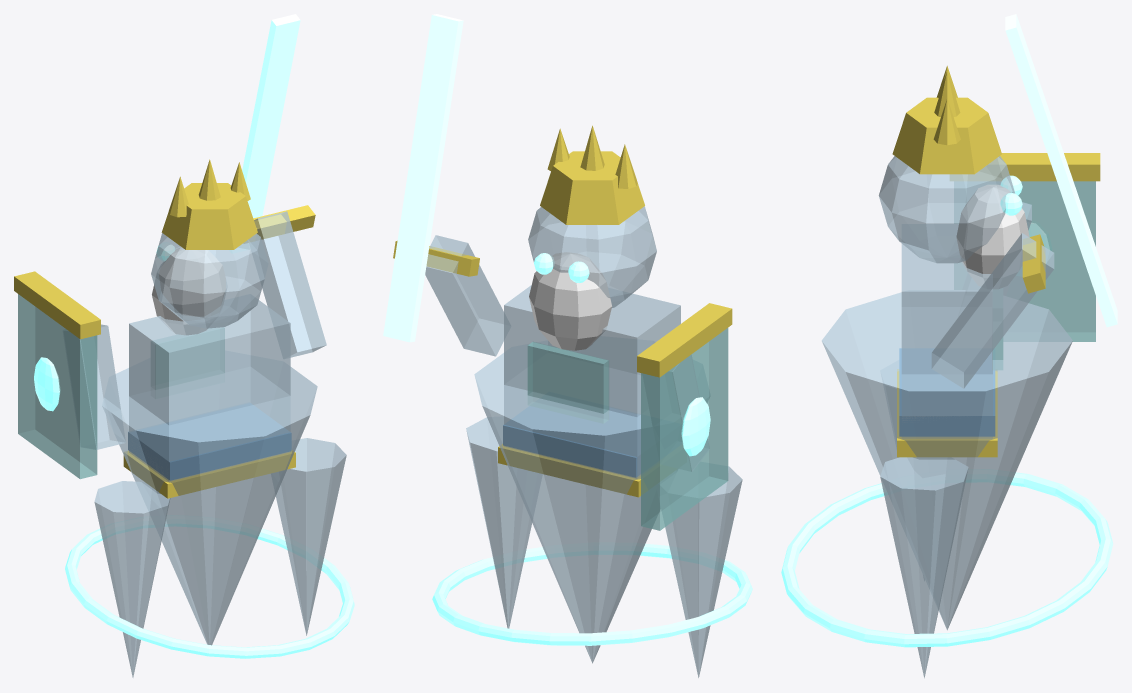
Rendered from royal_ghost.glb.
3 views of the same model, side by side, from view 1: azimuth 30°, elevation 25°; view 2: azimuth 150°, elevation 25°; view 3: azimuth 270°, elevation 25° (orthographic). The views are drawn at different scales.
Visible parts, largest first — view 1: royal_ghost; view 2: royal_ghost; view 3: royal_ghost.
Part boxes in pixels (box(x1,y1,x2,y2)): royal_ghost: box(14, 14, 354, 677); royal_ghost: box(383, 14, 752, 677); royal_ghost: box(781, 14, 1117, 678).
Size of the model in its own units: 1.57 by 3.22 by 1.47.
